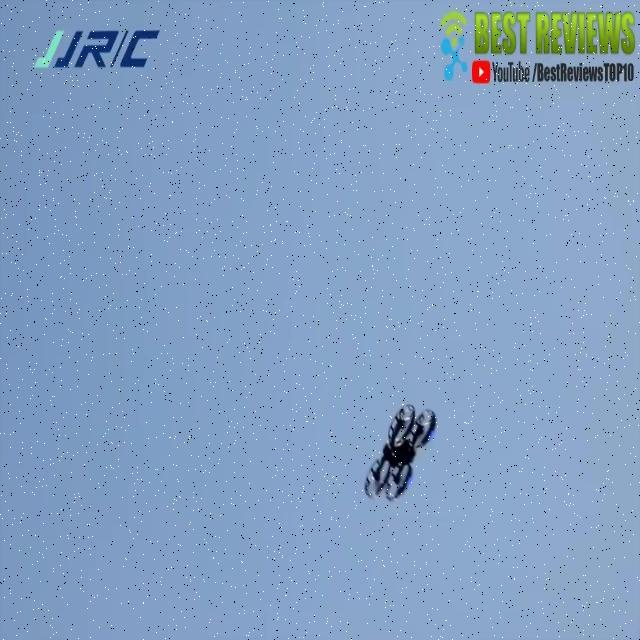UAV: (364, 404, 436, 502)
